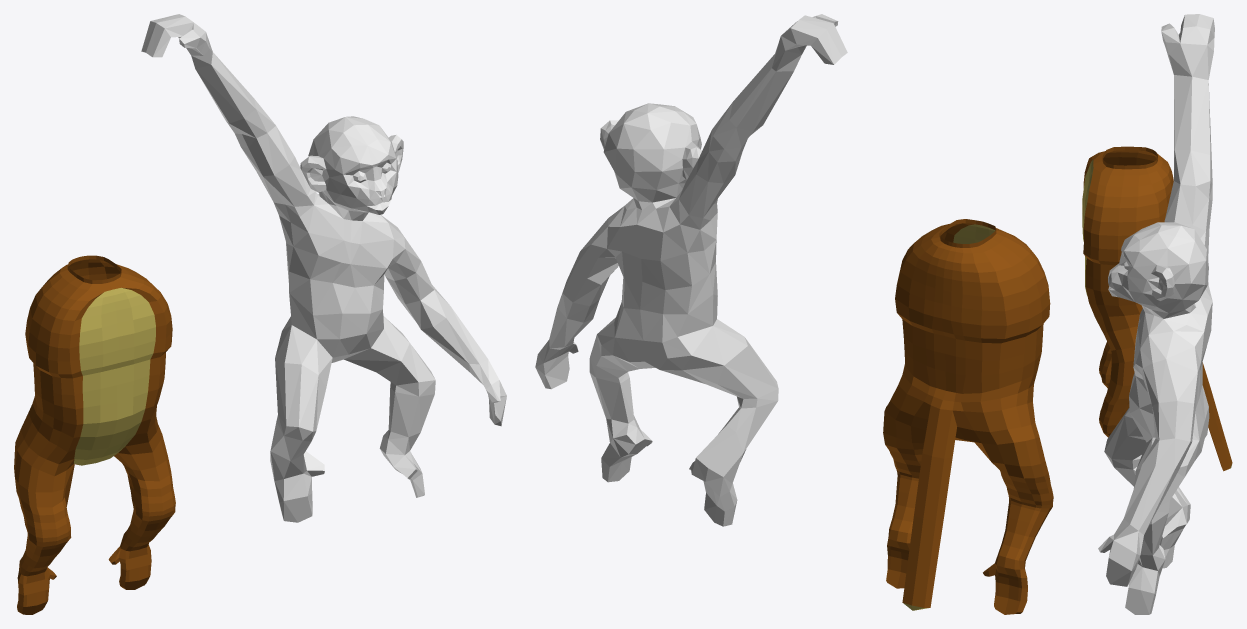
File: Monkey.fbx
3 views of the same model, side by side, from view 1: azimuth 30°, elevation 25°; view 2: azimuth 150°, elevation 25°; view 3: azimuth 270°, elevation 25° (orthographic). The views are drawn at different scales.
Visible parts, largest first — view 1: Low_Poly_Monkey, Cube; view 2: Low_Poly_Monkey, Cube; view 3: Low_Poly_Monkey, Cube.
Boxes of the visible parts, x1,y1,x2,y2 form: Low_Poly_Monkey: [141, 14, 506, 522]; Cube: [14, 255, 175, 614]; Low_Poly_Monkey: [535, 14, 847, 526]; Cube: [883, 219, 1053, 614]; Low_Poly_Monkey: [1098, 14, 1214, 614]; Cube: [1082, 146, 1232, 471].
Bounding box in the file's own units: 205 × 218 × 56.8.
